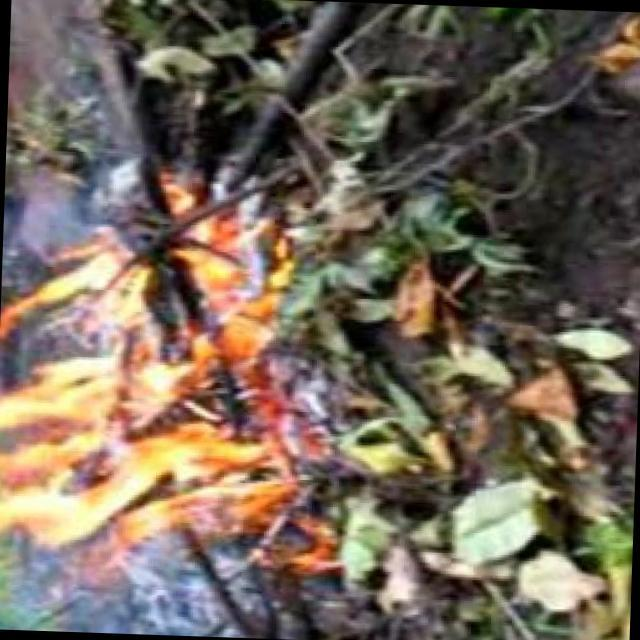Fire: (1, 216, 276, 566)
